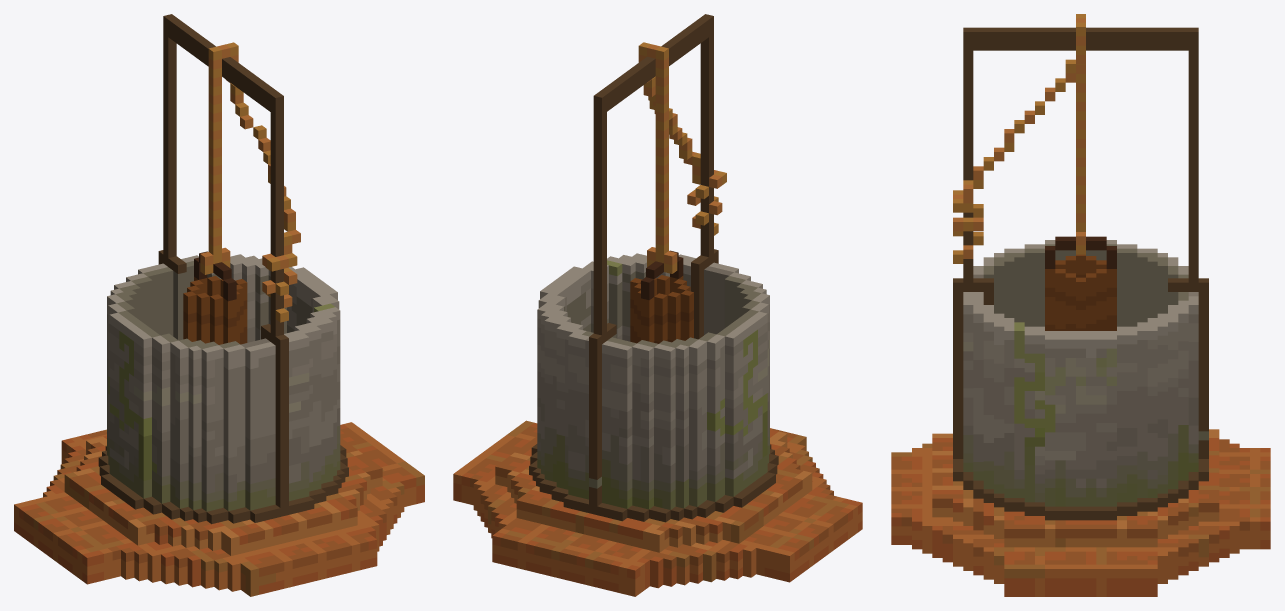
The model's file is Puit.fbx.
3 views of the same model, side by side, from view 1: azimuth 30°, elevation 25°; view 2: azimuth 150°, elevation 25°; view 3: azimuth 270°, elevation 25° (orthographic). The views are drawn at different scales.
Parts seen in each view (by area): view 1: puit:Mesh; view 2: puit:Mesh; view 3: puit:Mesh.
Part boxes in pixels (x1=…): puit:Mesh: x1=14, y1=14, x2=424, y2=596; puit:Mesh: x1=453, y1=14, x2=862, y2=596; puit:Mesh: x1=891, y1=14, x2=1270, y2=596.
Bounding box in the file's own units: 40 × 53 × 37.
